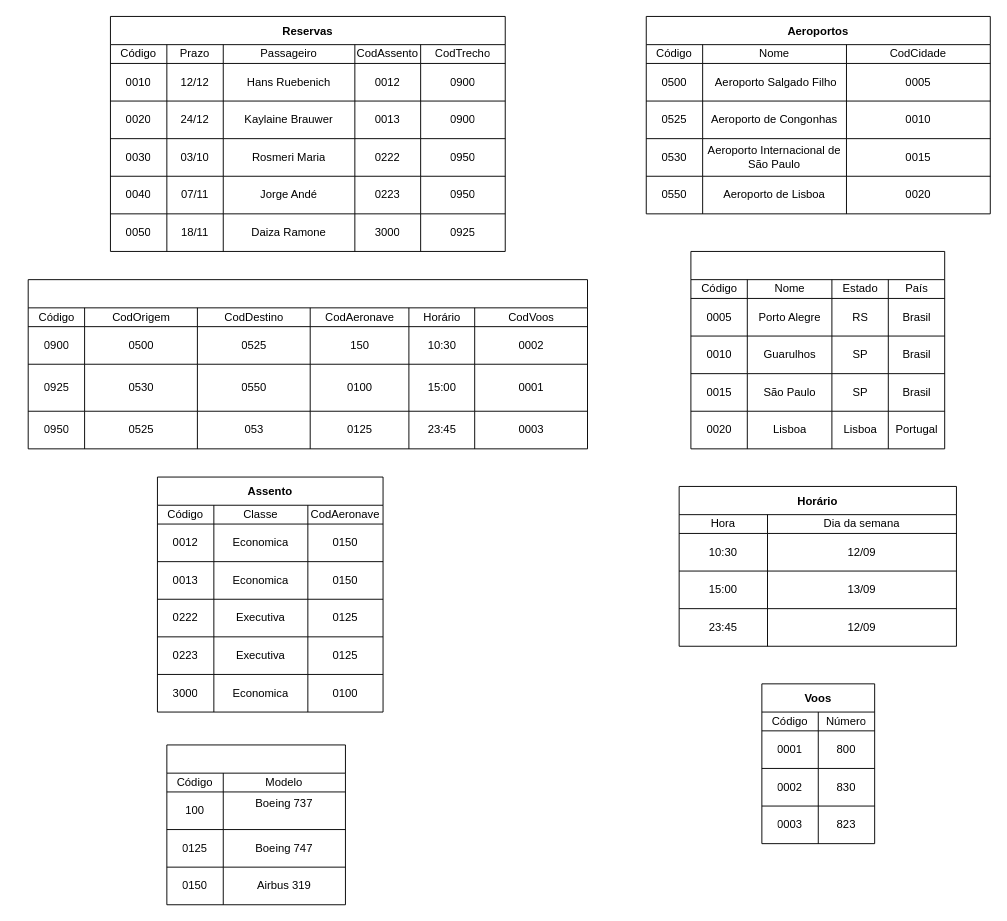
Image size: 1007x921. Some labels were removed from this diagram. The shapes that lost their labels are listed below. From the top down, each one's box as (x1, y1, x2, y2) in pixels, then its label:
(27, 279, 588, 449): Trecho
(690, 251, 945, 449): Cidades
(166, 744, 345, 905): Aeronave
